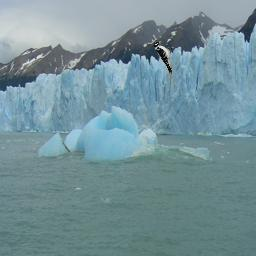Woodpecker: (153, 41, 174, 74)
